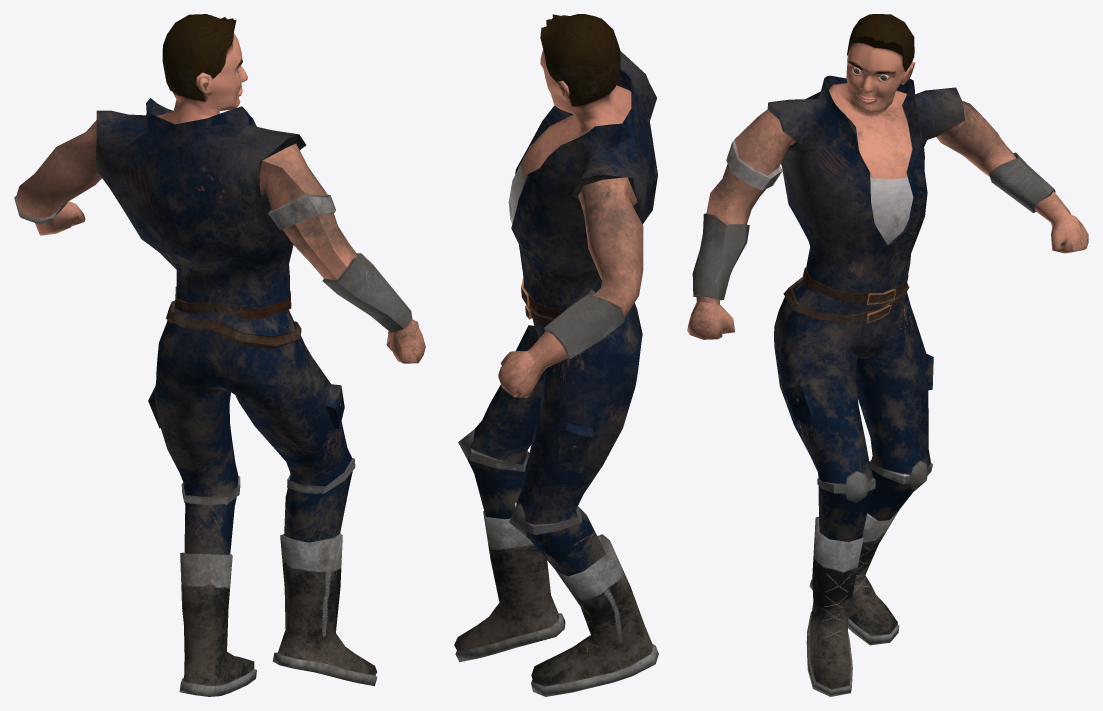
The model's file is Anim_ataque_f1_jugador.0027.obj.
3 views of the same model, side by side, from view 1: azimuth 30°, elevation 25°; view 2: azimuth 150°, elevation 25°; view 3: azimuth 270°, elevation 25° (orthographic). The views are drawn at different scales.
Visible parts, largest first — view 1: polySurface1; view 2: polySurface1; view 3: polySurface1.
Part boxes in pixels (x1=…): polySurface1: x1=14, y1=14, x2=425, y2=696; polySurface1: x1=454, y1=14, x2=658, y2=696; polySurface1: x1=687, y1=14, x2=1088, y2=696.
Bounding box in the file's own units: 3.9 × 9.59 × 5.65.
